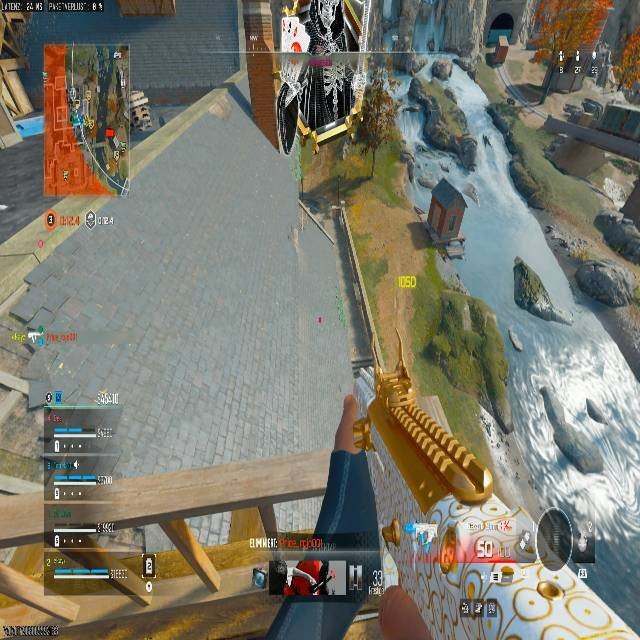player: (267, 0, 511, 501), (396, 57, 482, 252)
